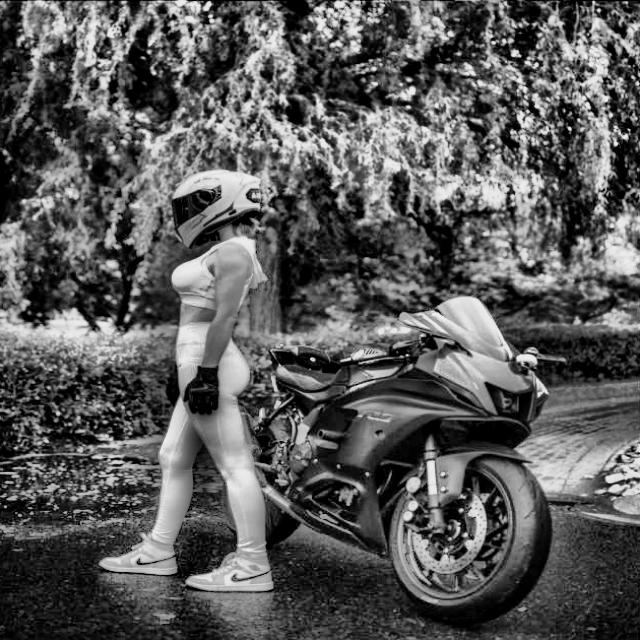Helmet: (166, 167, 267, 252)
